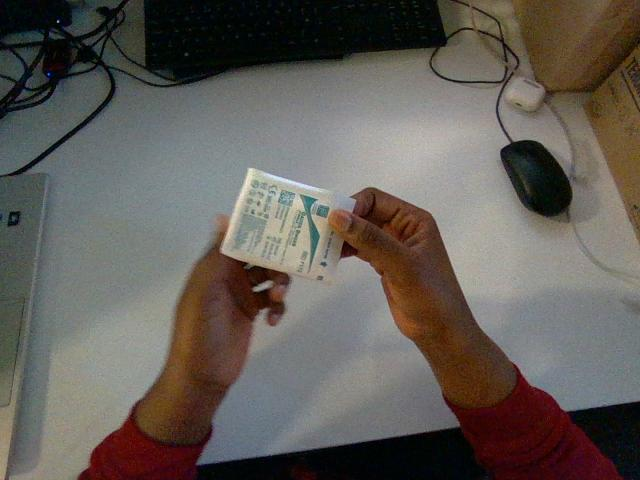gauze: (221, 168, 354, 282)
